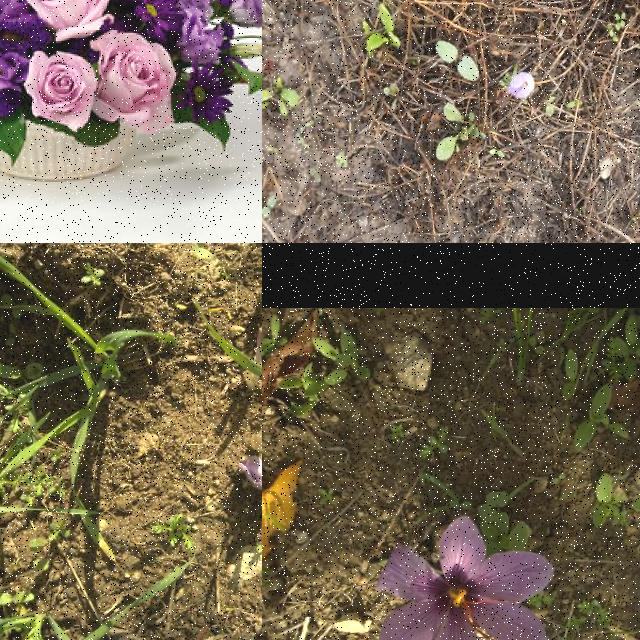flower: (375, 516, 555, 640), (237, 456, 262, 500), (508, 73, 536, 99)
